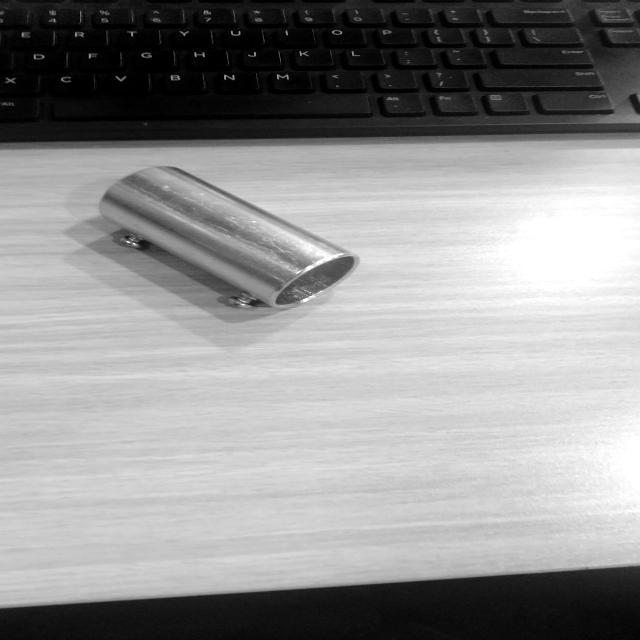Co_Lon: (82, 142, 366, 353)
